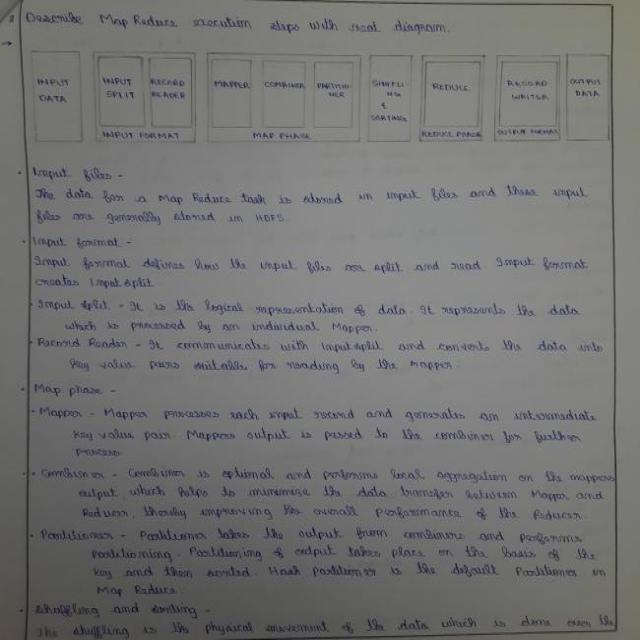Figure Detection - v3 Dataset Version2: (21, 33, 618, 154)
